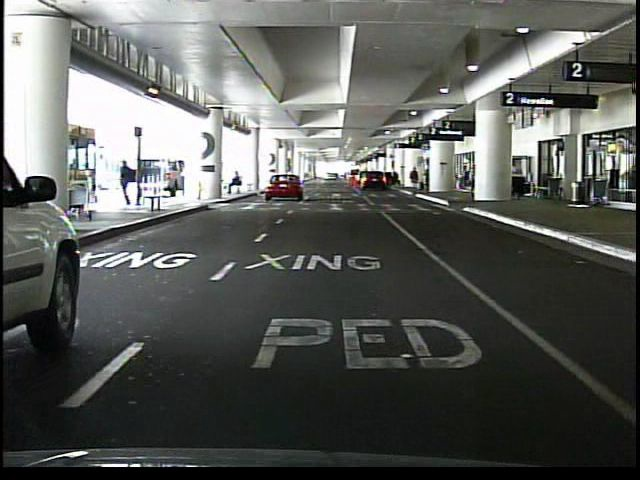person: (121, 161, 138, 207), (227, 171, 245, 195), (410, 165, 421, 193)
